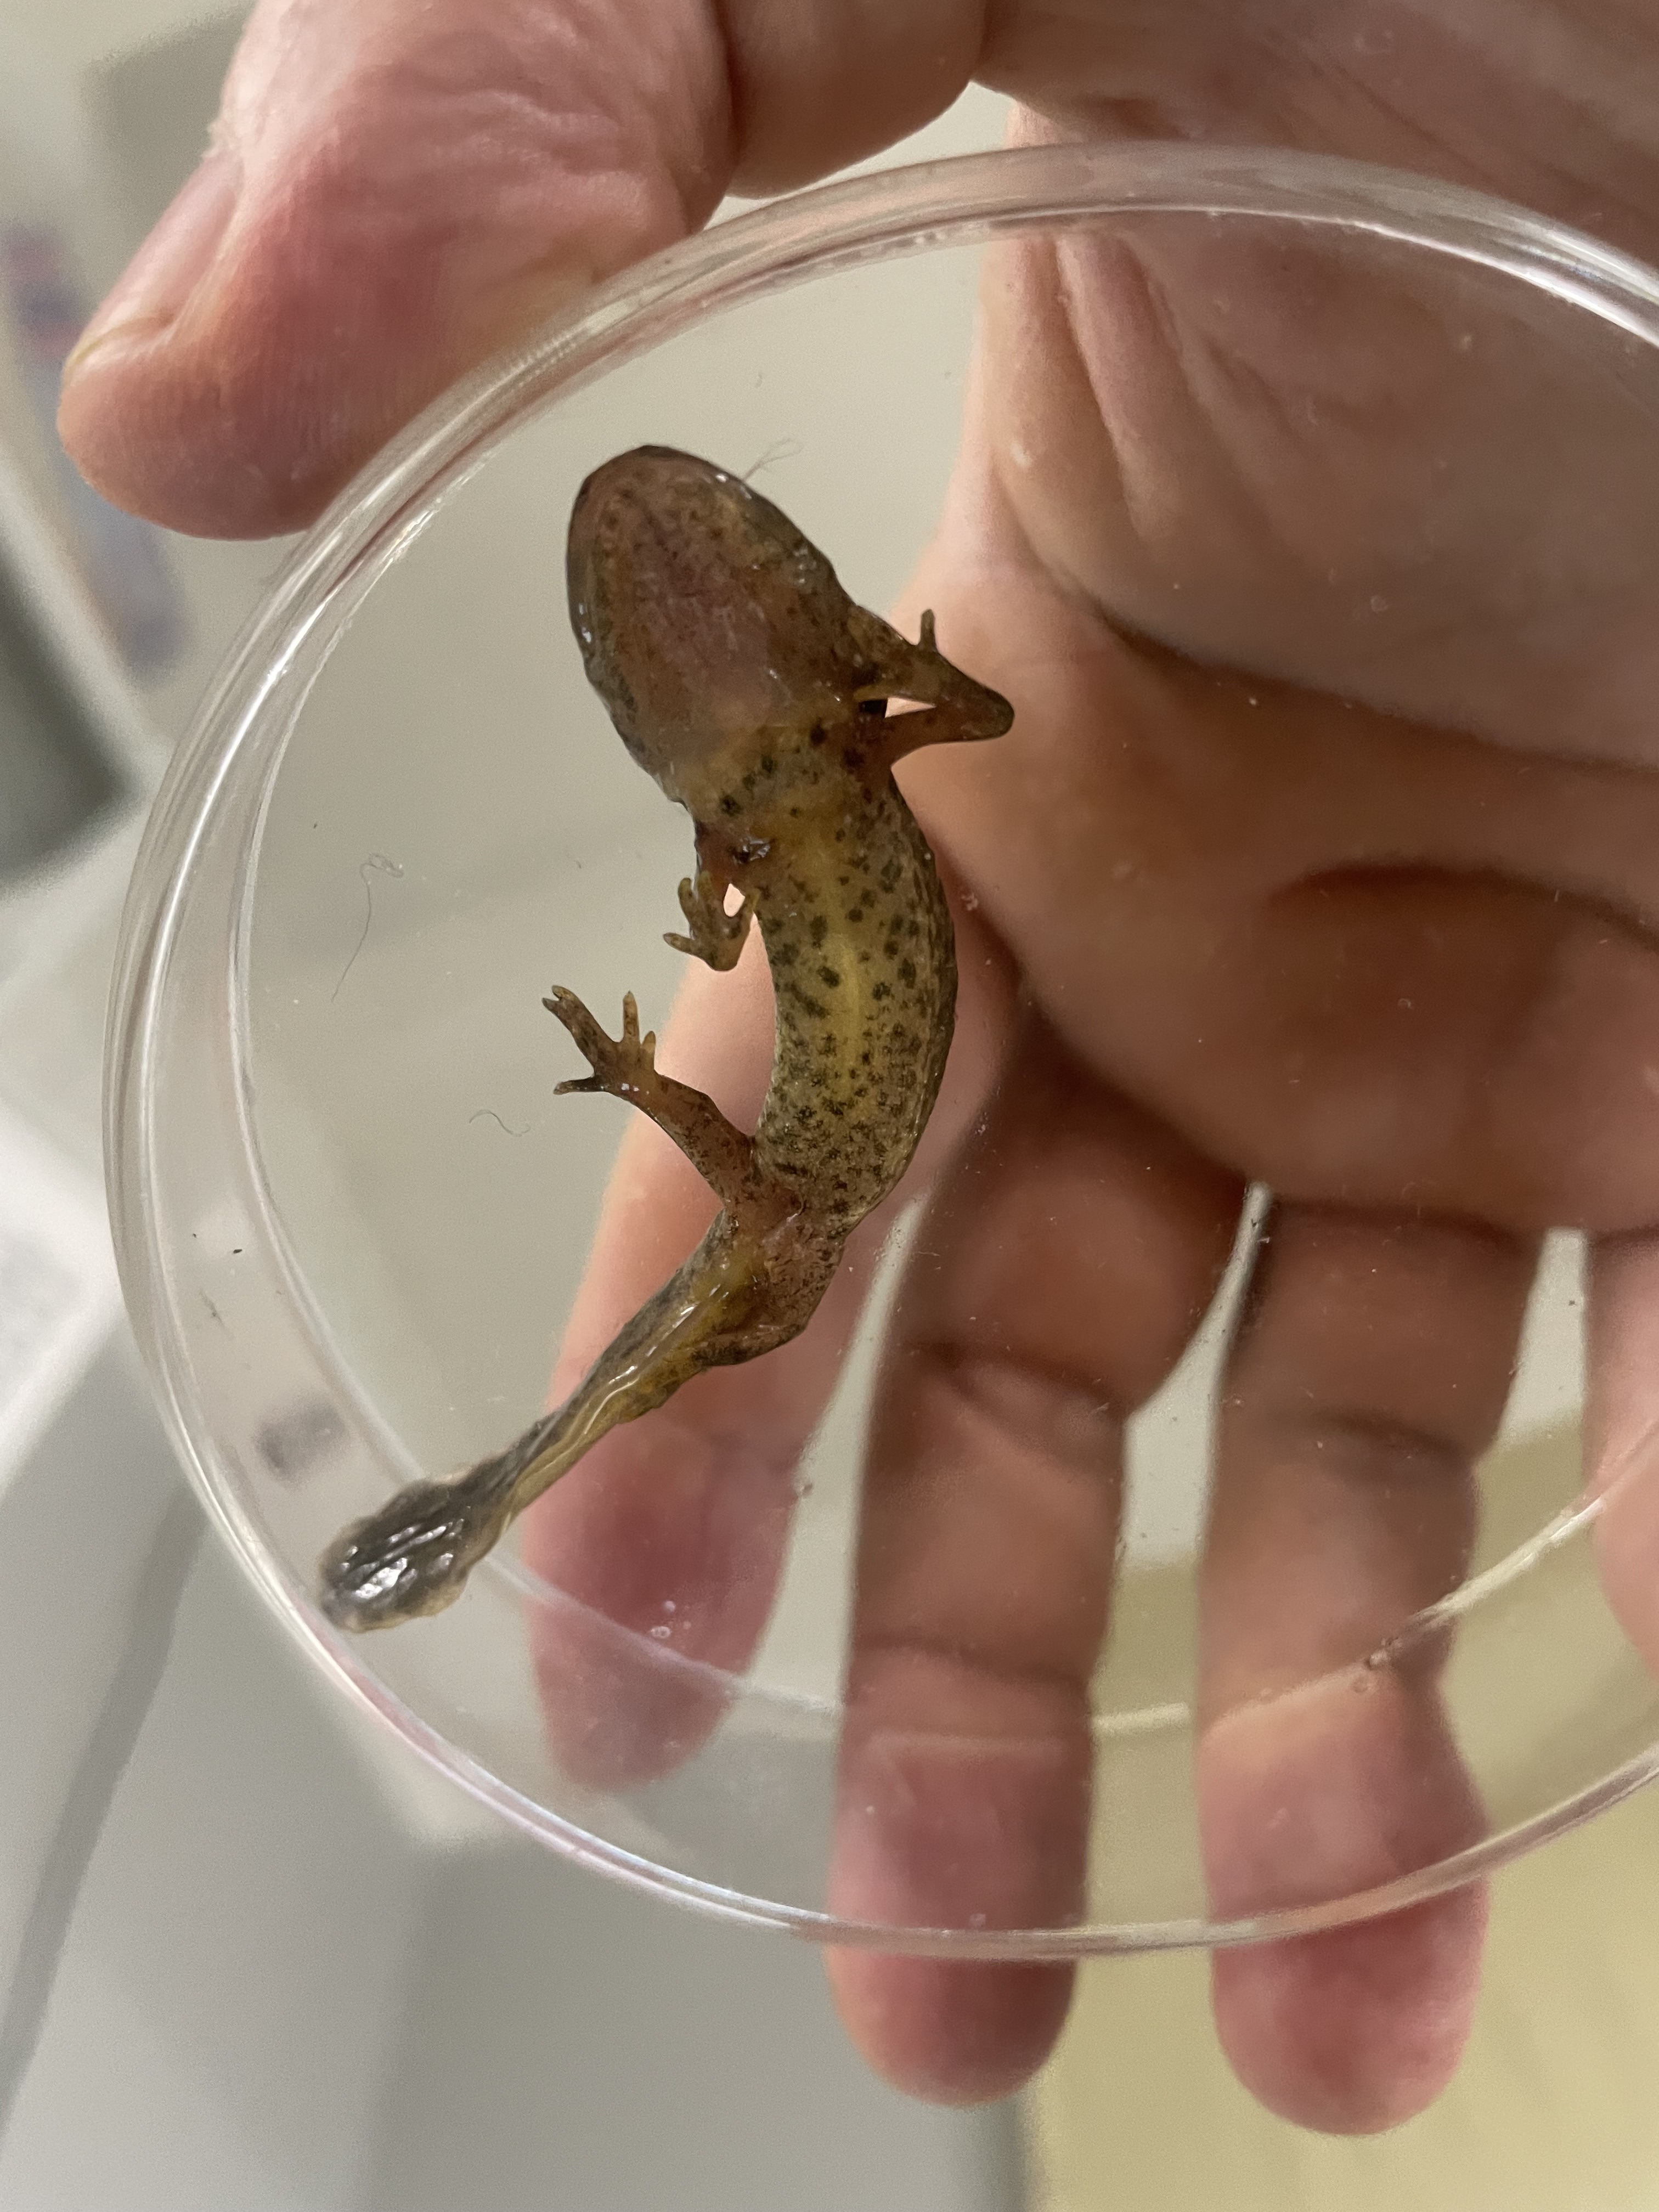newt_ribbed: (729, 769, 958, 1240)
